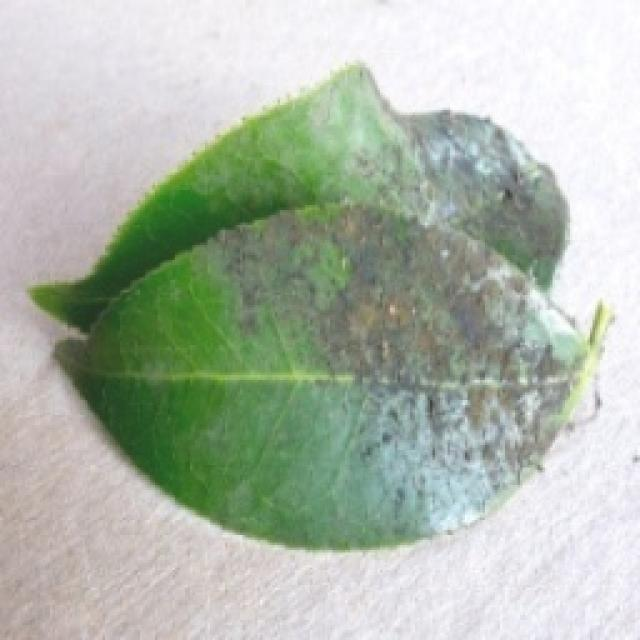Sooty Mold: (28, 58, 612, 552)
